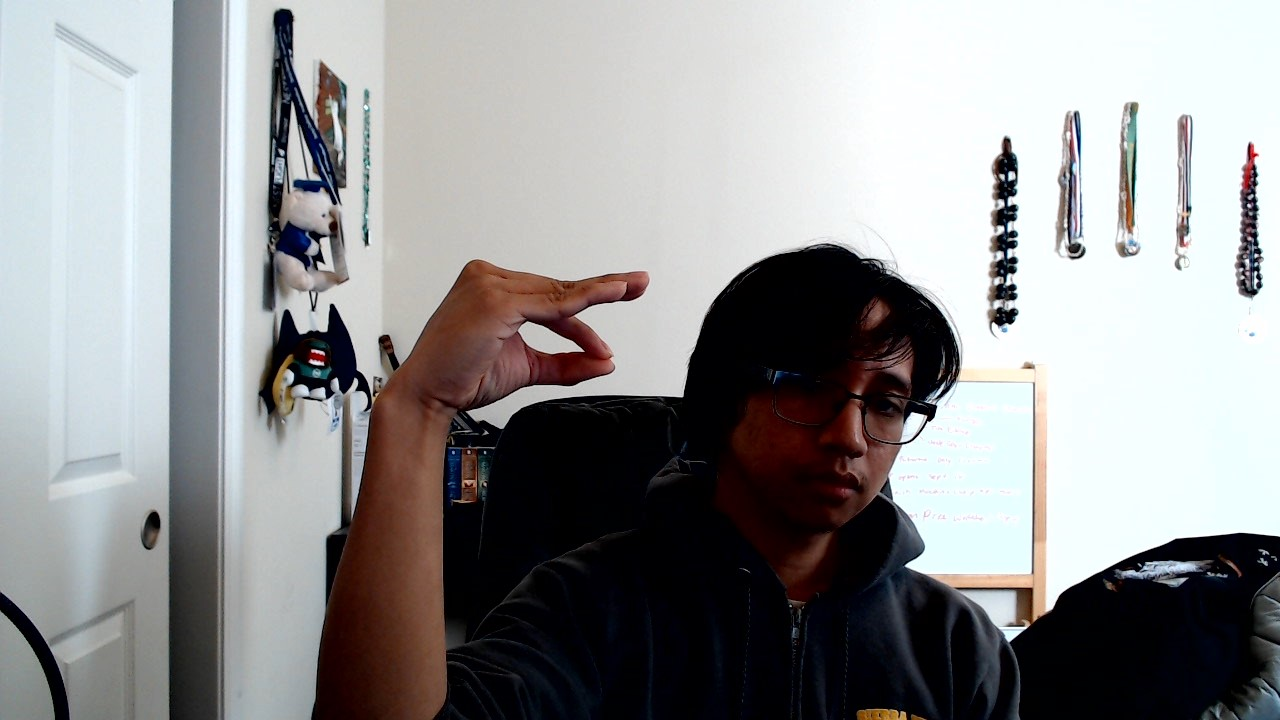z: (368, 259, 652, 413)
